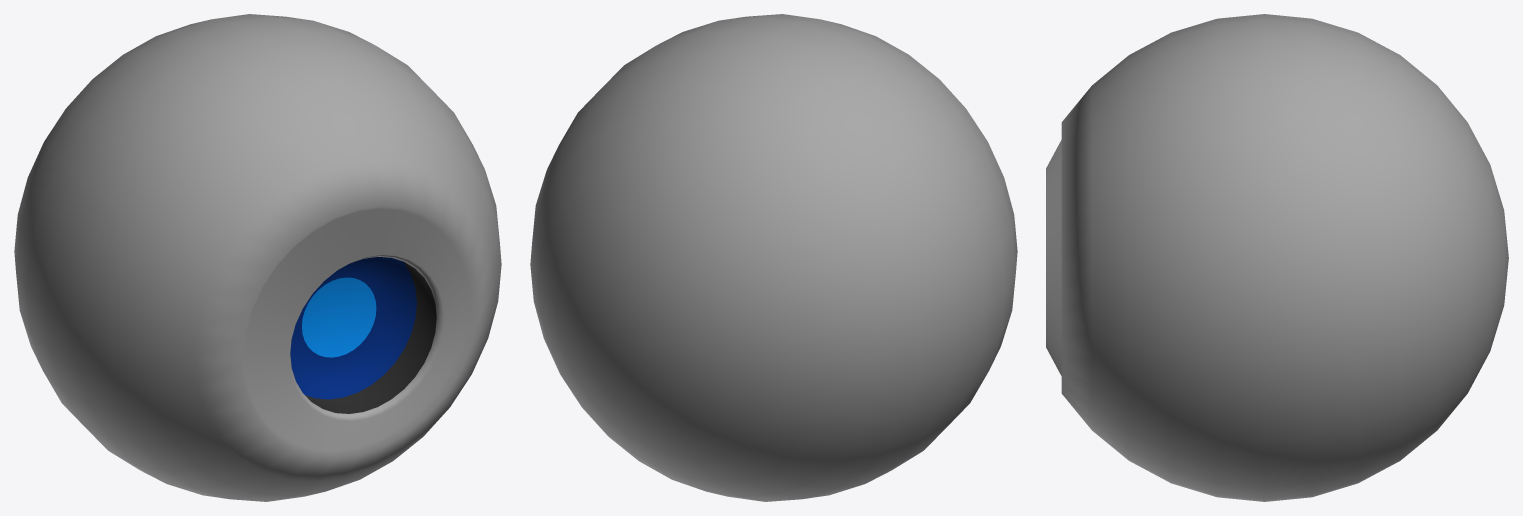
Rendered from wheateter.FBX.
3 renders of one model, left to right at view 1: azimuth 30°, elevation 25°; view 2: azimuth 150°, elevation 25°; view 3: azimuth 270°, elevation 25°, orthographic.
Parts seen in each view (by area): view 1: Sphere; view 2: Sphere; view 3: Sphere.
Part boxes in pixels (x1,y1,x2,y2): Sphere: (14,14,501,501); Sphere: (530,14,1017,501); Sphere: (1046,14,1508,501).
Size of the model in its own units: 12.35 by 12.35 by 11.7.
